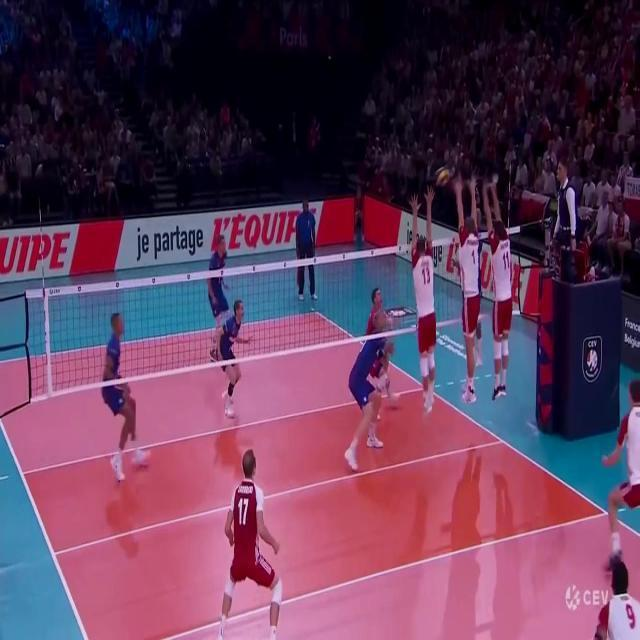volleyball: (434, 168, 448, 186)
